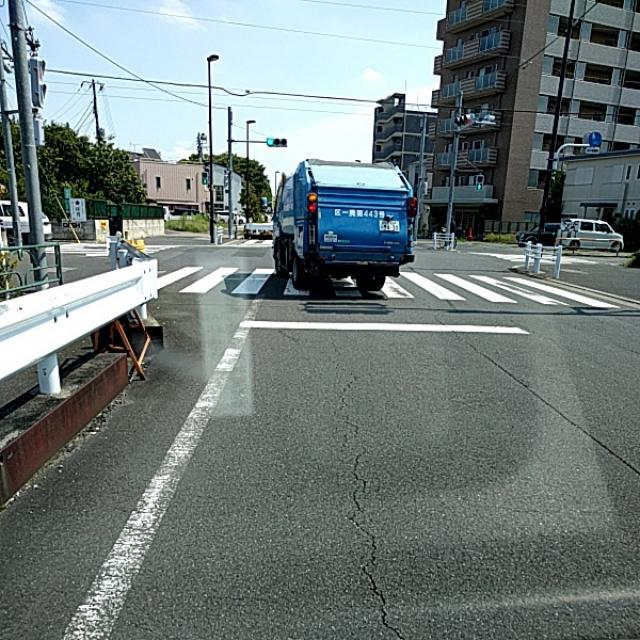pothole: (318, 401, 392, 564)
